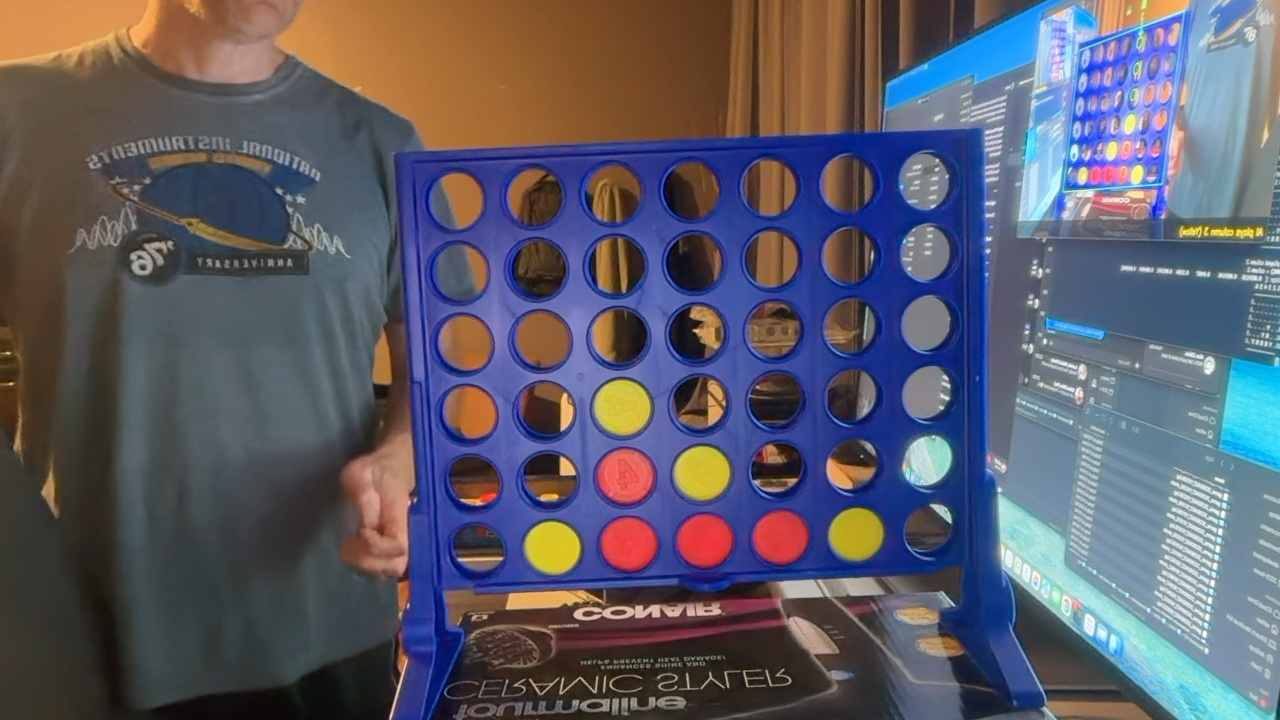red piece: (596, 448, 655, 505), (599, 517, 658, 572), (676, 513, 733, 569), (752, 510, 809, 565)
yellow piece: (592, 378, 652, 437), (673, 445, 731, 501), (523, 521, 582, 575), (828, 508, 884, 562)
